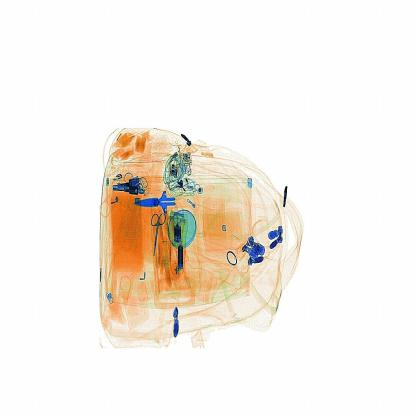gun: (132, 183, 190, 219)
